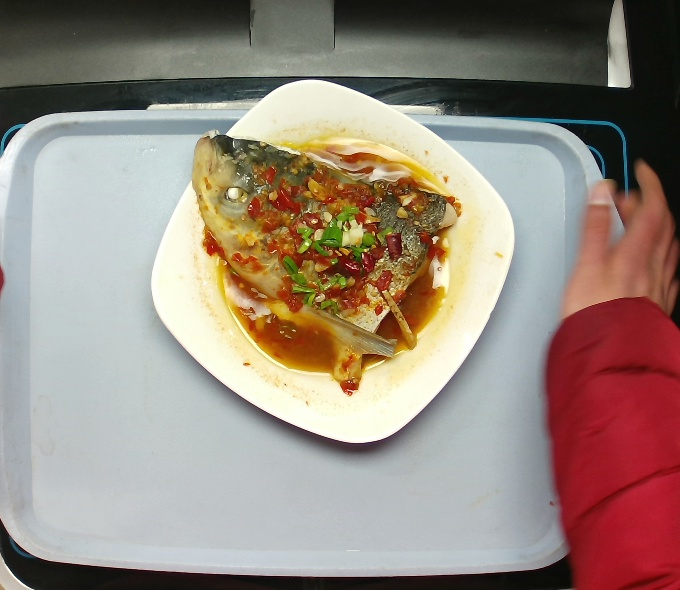wcq-DuoJiaoYuTou: (188, 127, 460, 386)
